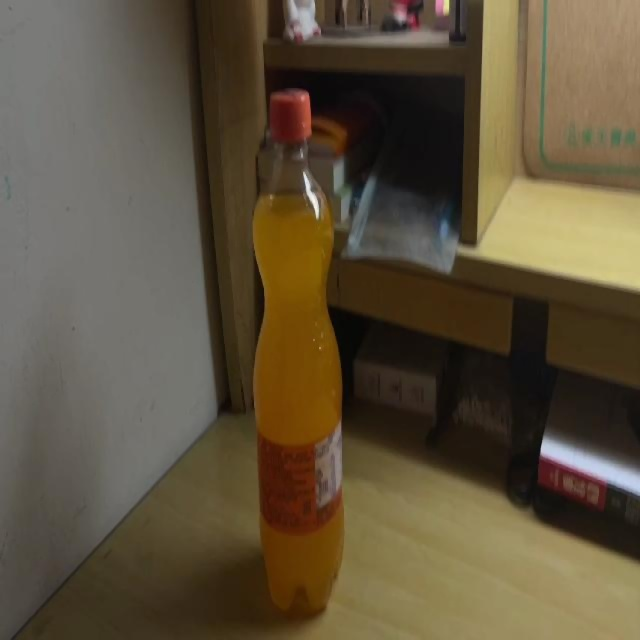Fanta: (248, 90, 344, 620)
